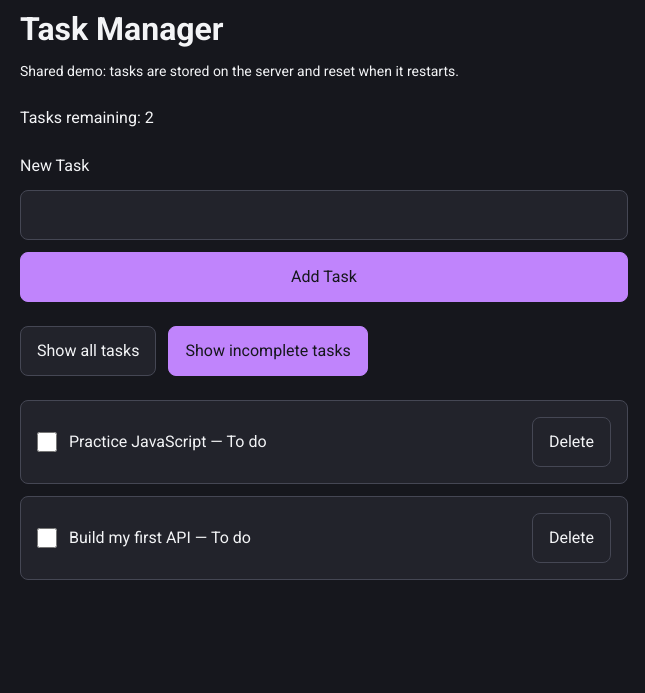
Test case: switches filters and marks the active filter
Expected: the field labelled "New Task" is enabled, top-left (20, 190), bottom-right (628, 240)
Click the button "Show all tasks".
click(88, 351)  # box top-left (20, 326), bottom-right (156, 376)
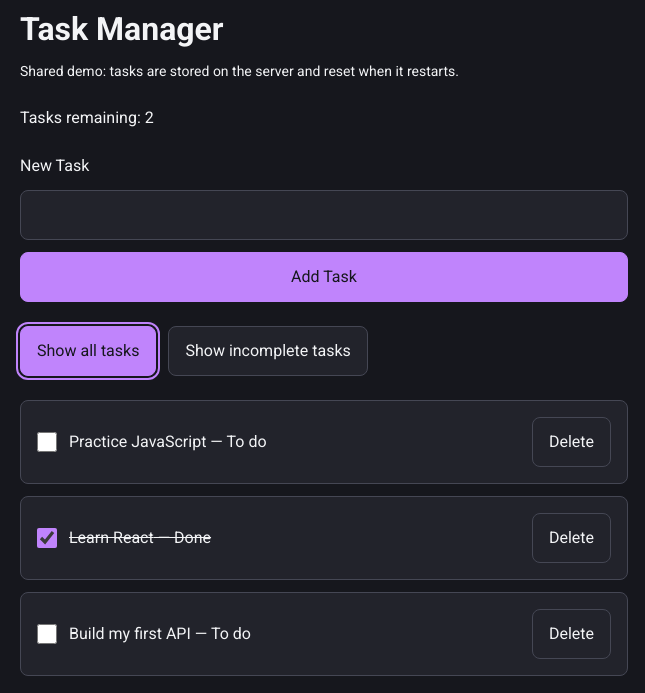
Now the number of list items is 3, box top-left (20, 400), bottom-right (628, 484); top-left (20, 496), bottom-right (628, 580); top-left (20, 592), bottom-right (628, 676)
Click the button "Show incomplete tasks".
click(268, 351)  # box top-left (168, 326), bottom-right (368, 376)
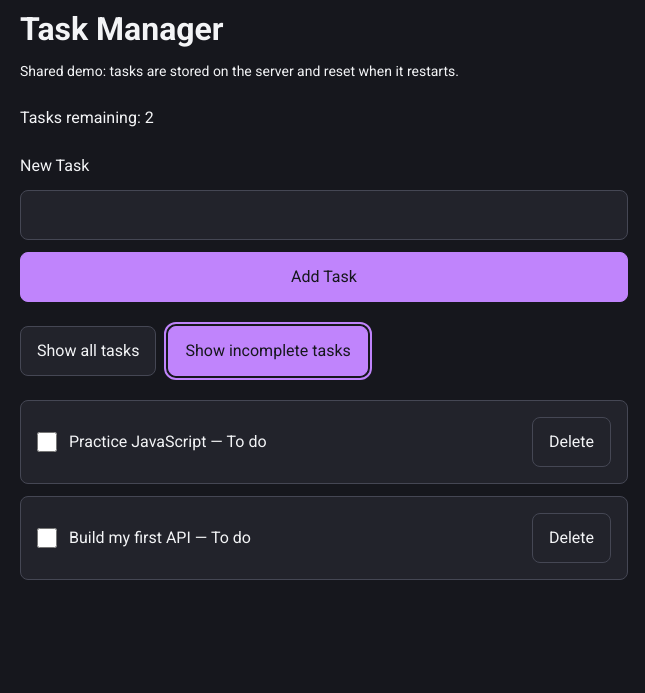
Now the number of list items is 2, box top-left (20, 400), bottom-right (628, 484); top-left (20, 496), bottom-right (628, 580)
